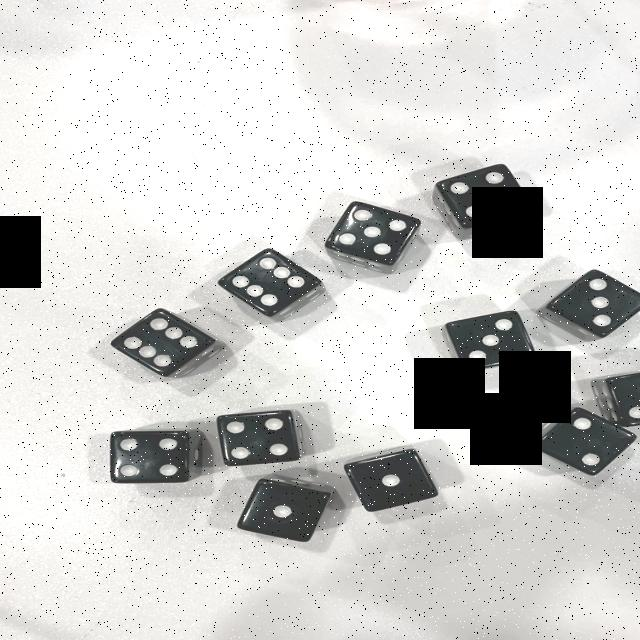DICE1: (235, 491, 322, 540), (382, 470, 430, 502)
DICE2: (544, 407, 614, 482), (598, 364, 640, 422)
DICE3: (564, 254, 640, 338), (442, 315, 536, 371)
DICE4: (104, 429, 198, 492), (228, 406, 318, 468)
DICE5: (416, 150, 546, 230), (325, 194, 423, 270)
DICE6: (220, 240, 318, 324), (124, 288, 214, 378)
